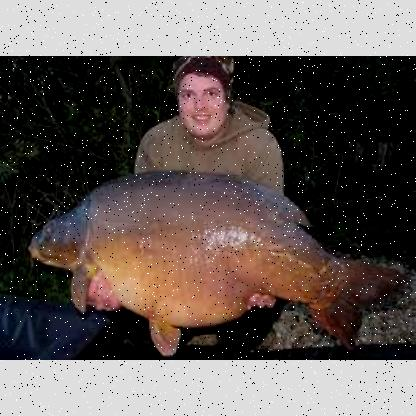ikan-mas: (28, 170, 374, 330)
